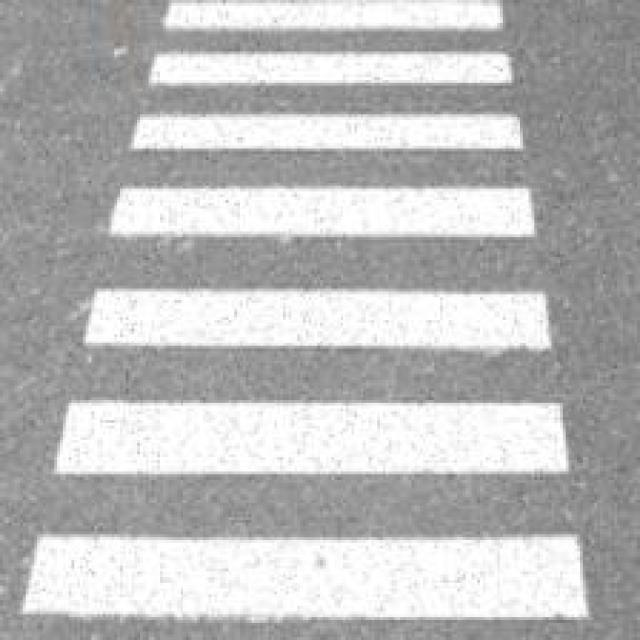crosswalk: (14, 0, 604, 624)
